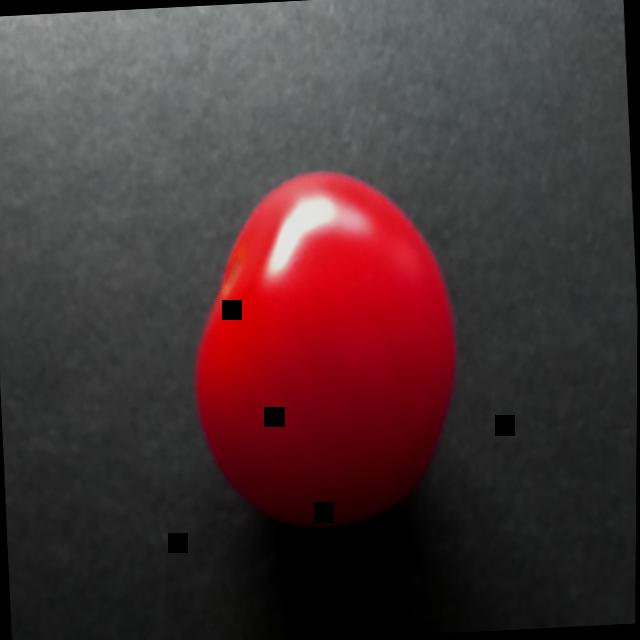Tomato: (154, 132, 499, 588)
